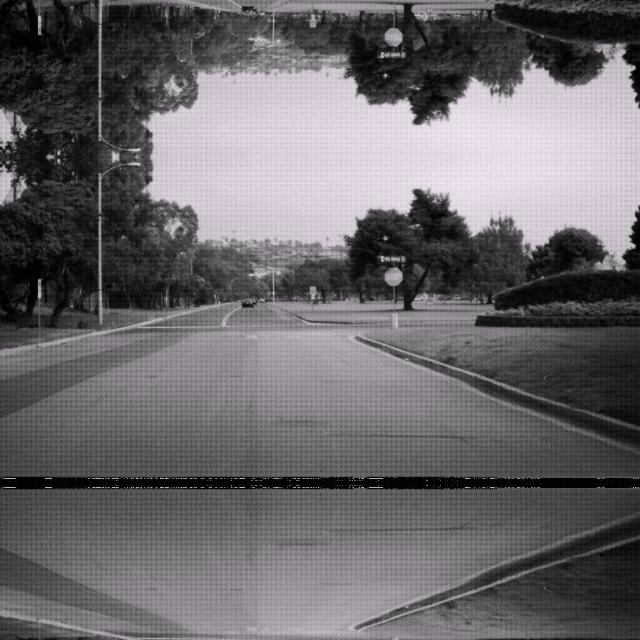stop: (383, 265, 403, 285), (383, 27, 403, 47)
